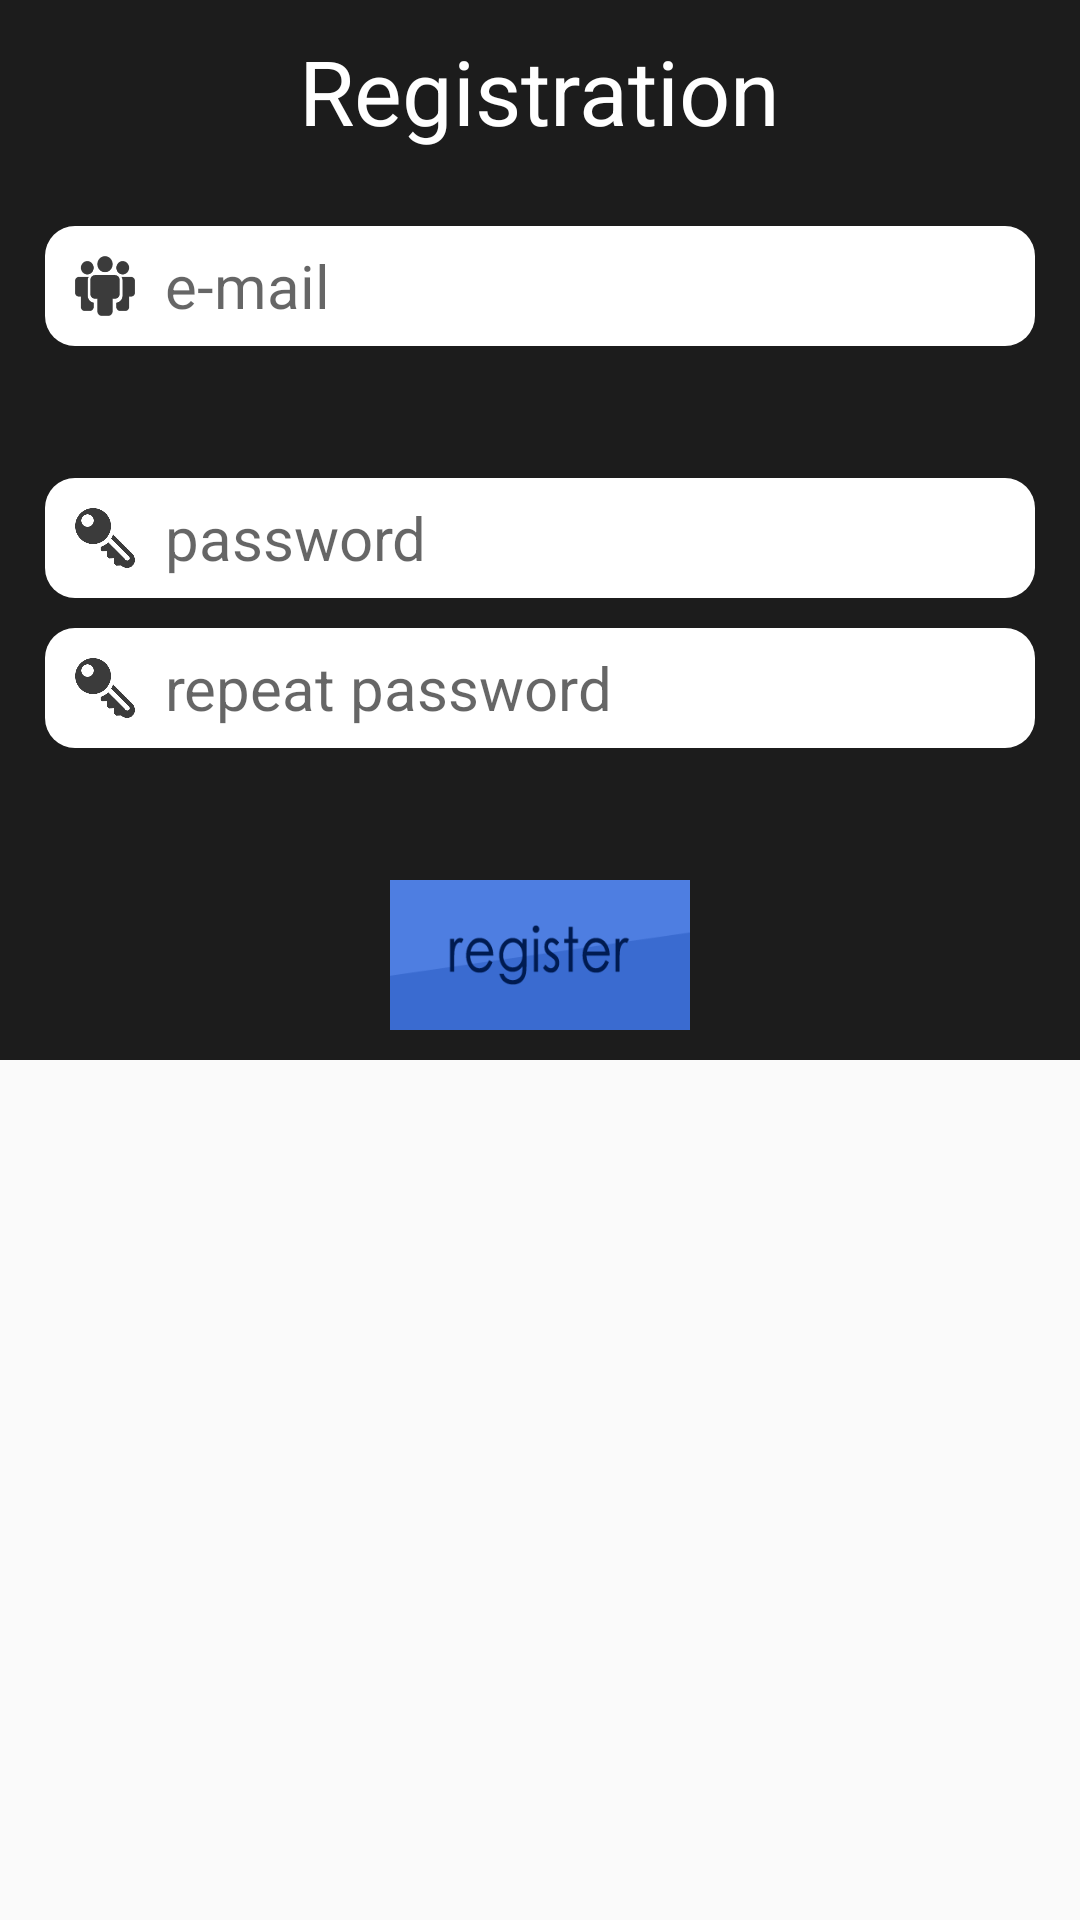

Icon click points for this 1080x1920 phone screenshot, format (x=x, y=y):
key: (x=105, y=538), (x=105, y=688)
user: (x=105, y=286)
